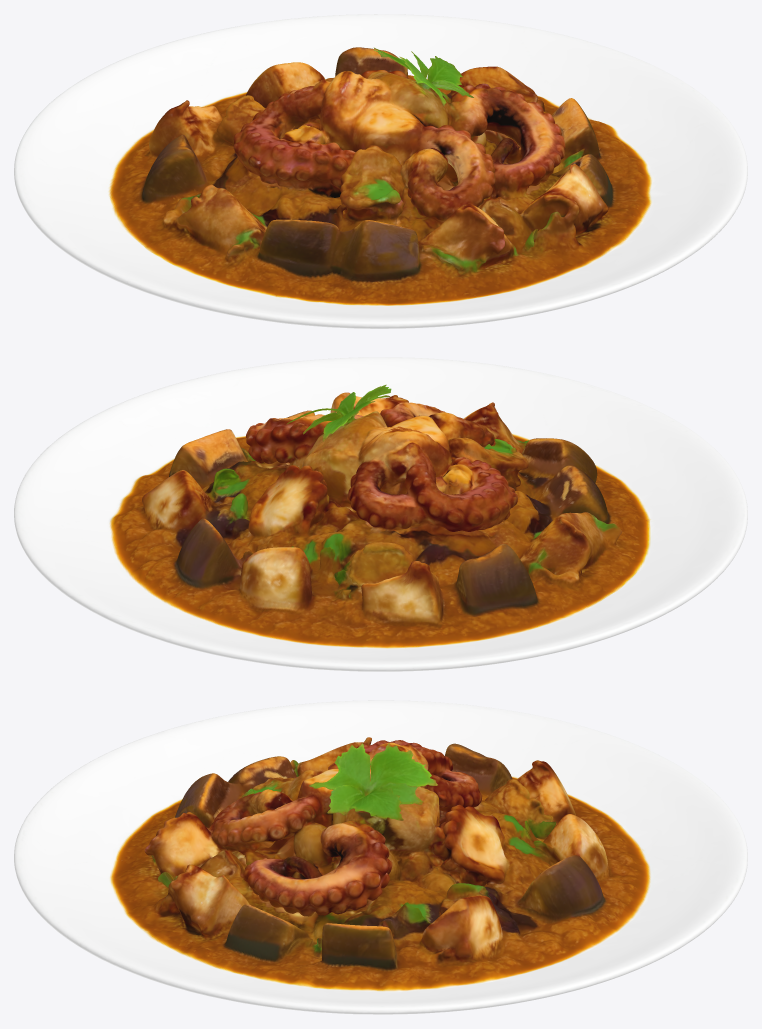
Rendered from Meshy_AI_cari_ourite_curry_0722040155_image-to-3d-texture-v1.glb.
The picture shows the model from 3 angles, top to bottom: view 1: azimuth 30°, elevation 25°; view 2: azimuth 150°, elevation 25°; view 3: azimuth 270°, elevation 25°; orthographic projection.
Size of the model in its own units: 1.9 by 0.4707 by 1.9.
Materials: 1 (1 with a texture image).
